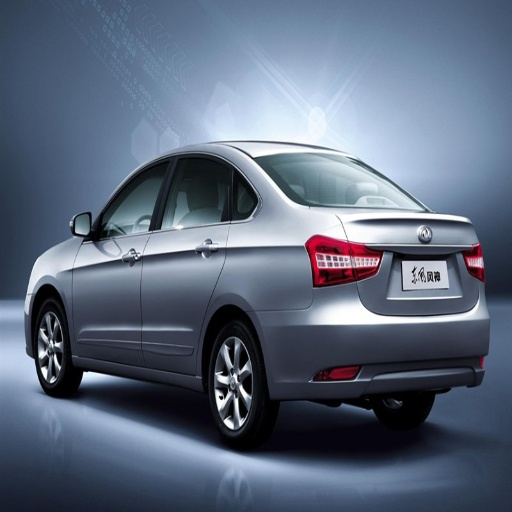back_bumper: (262, 278, 491, 401)
back_glass: (255, 148, 419, 209)
back_left_door: (144, 153, 236, 372)
